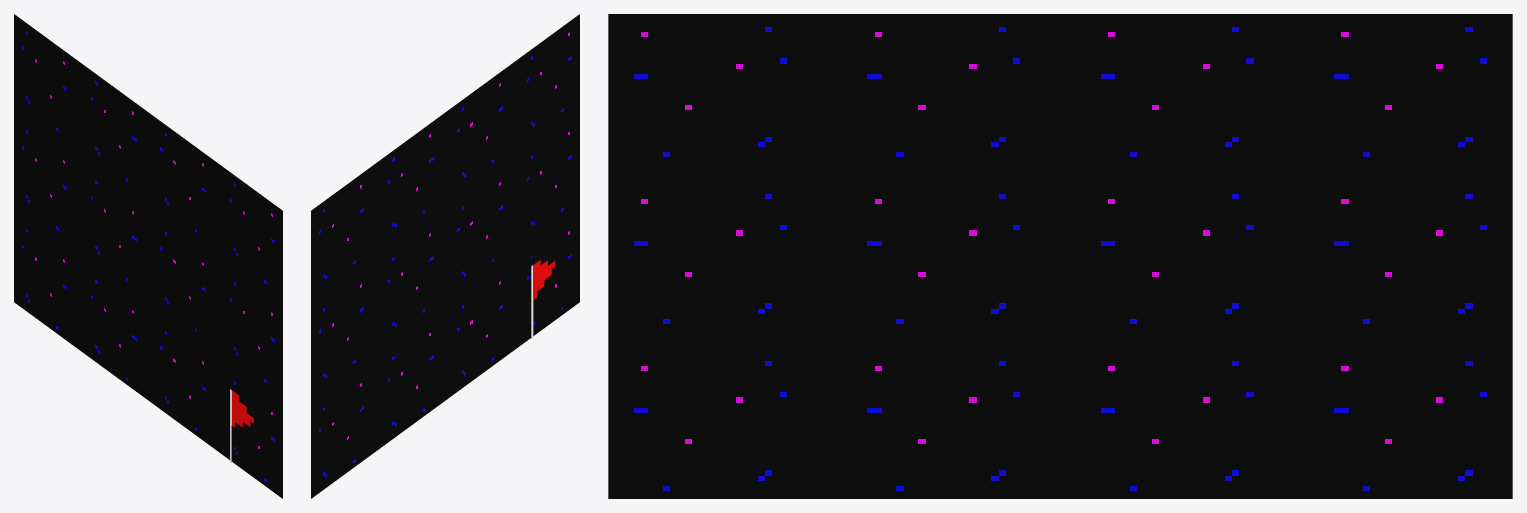
Rendered from special-067.glb.
The picture shows the model from 3 angles, left to right: view 1: azimuth 30°, elevation 25°; view 2: azimuth 150°, elevation 25°; view 3: azimuth 270°, elevation 25°; orthographic projection. The views are drawn at different scales.
Visible parts, largest first — view 1: special-067; view 2: special-067; view 3: special-067.
Boxes of the visible parts, box(x1,y1,x2,y2) form: special-067: box(14, 14, 282, 498); special-067: box(311, 14, 579, 498); special-067: box(608, 14, 1512, 498).
Size of the model in its own units: 0.00977 by 1.21 by 2.04.
Materials: 1 (1 with a texture image).
